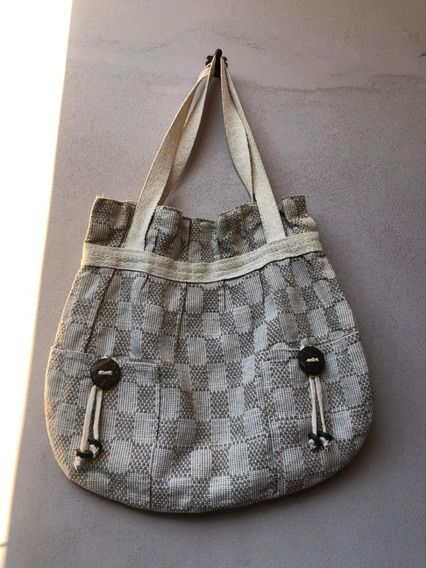cartera: (40, 51, 376, 518)
